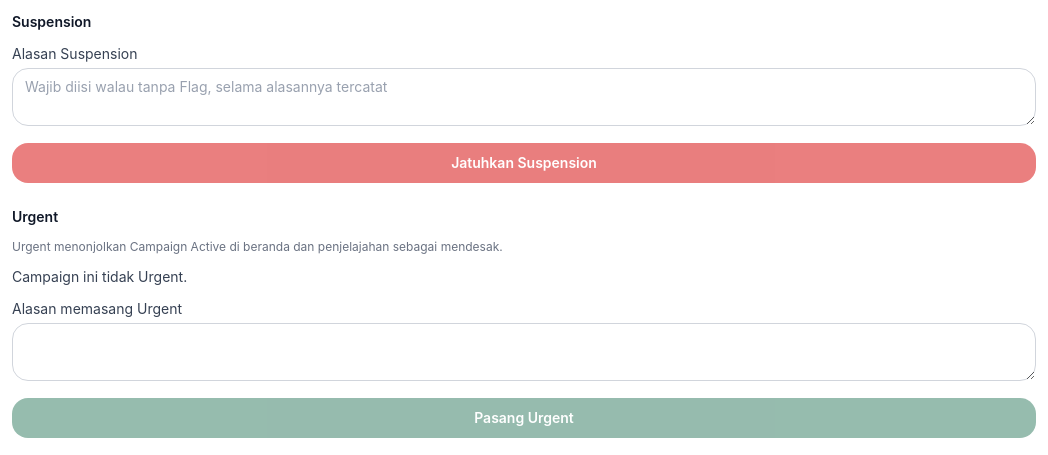
it: AdminCampaignLifecycleActions -- Urgent › offers no change without a reason
Check: the button "Pasang Urgent" is disabled, box [12, 398, 1036, 438]
Type "Mendesak." into the text box labelled "Alasan memasang Urgent" at (524, 352), box [12, 323, 1036, 381]
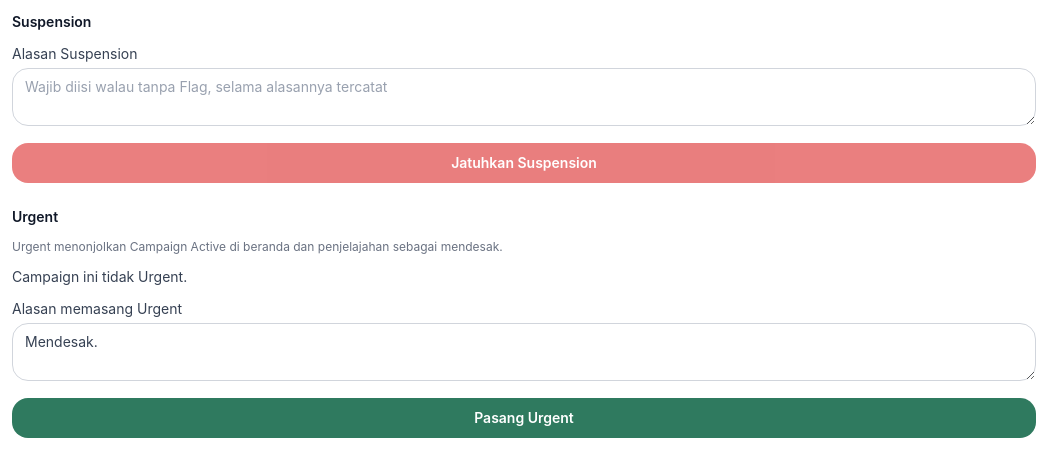
Check: the button "Pasang Urgent" is enabled, box [12, 398, 1036, 438]
